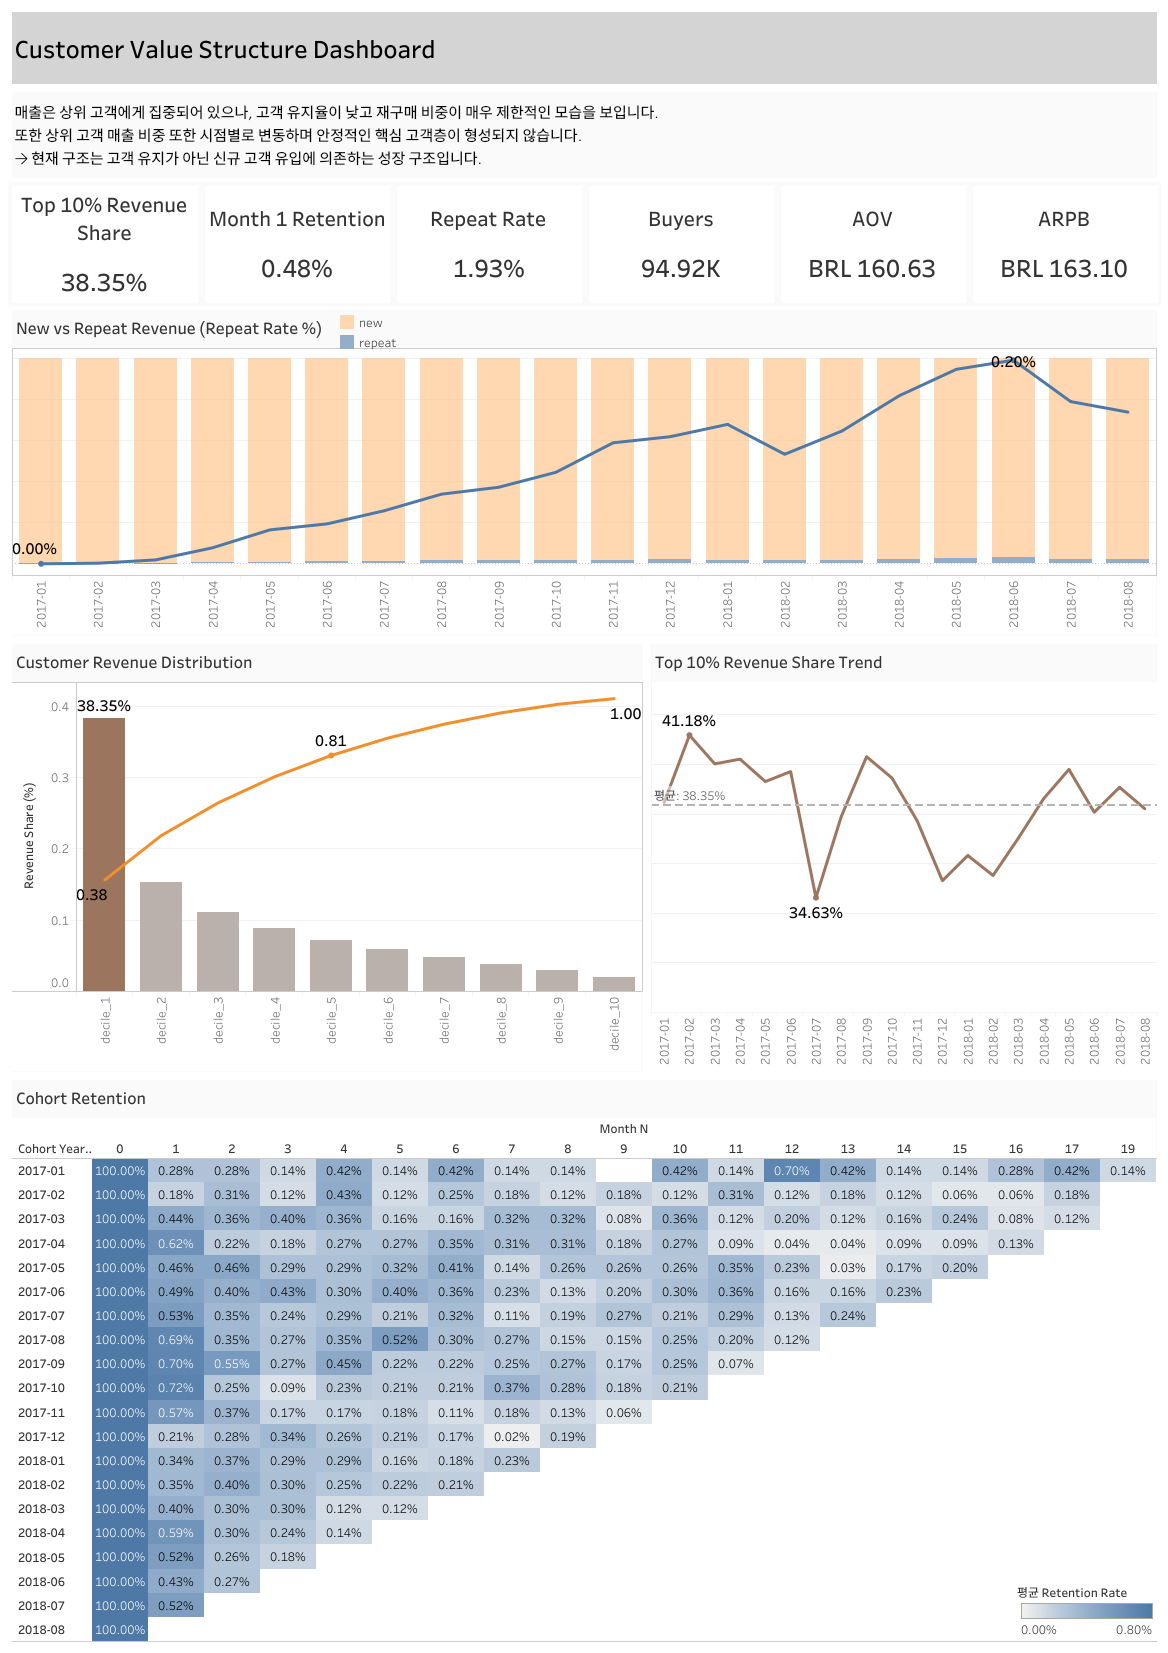

What the dashboard file says about the page in this screenshot:
{"tool":"tableau","page":{"name":"Customer Value Structure Dashboard","canvas":[1169,1654],"ordinal":0},"visuals":[{"type":"text","box":[8,8,1153,80]},{"type":"text","box":[8,88,1153,94]},{"type":"worksheet","title":"CV_KPI_Top 10% Revenue Share","mark":"Automatic","box":[8,182,193,112]},{"type":"worksheet","title":"CV_KPI_Month 1 Retention","mark":"Automatic","box":[201,182,192,112]},{"type":"worksheet","title":"CV_KPI_Repeat Rate","mark":"Automatic","box":[393,182,192,112]},{"type":"worksheet","title":"CV_KPI_Buyers","mark":"Automatic","box":[585,182,192,112]},{"type":"worksheet","title":"CV_KPI_AOV","mark":"Automatic","box":[777,182,192,112]},{"type":"worksheet","title":"CV_KPI_ARPB","mark":"Automatic","box":[969,182,192,112]},{"type":"worksheet","title":"CV_New vs Repeat Revenue","mark":"Automatic","cols":["year_month"],"box":[8,294,1153,346]},{"type":"legend","title":"CV_New vs Repeat Revenue","param":"[federated.15k9110030ab7d1emxqkk14pnrqd].[none:sub_type:nk]","box":[336,297,74,48]},{"type":"worksheet","title":"CV_Customer Revenue Distribution","mark":"Line","rows":["revenue_share"],"cols":["sub_type"],"box":[8,640,639,436]},{"type":"worksheet","title":"CV_Top 10% Revenue Share Trend","mark":"Line","rows":["revenue_share"],"cols":["year_month"],"box":[647,640,513.9,436]},{"type":"worksheet","title":"CV_Cohort Retention","mark":"Square","rows":["cohort_year_month"],"cols":["month_n"],"box":[8,1076,1153,570]},{"type":"legend","title":"CV_Cohort Retention","param":"[federated.15k9110030ab7d1emxqkk14pnrqd].[avg:retention_rate:qk]","box":[1017,1579,140,59]}]}

Visuals, with their boxes in screenshot pixels (x1, y1, x2, y2), scaled from the page's 1169x1654 canvas onto the 1168x1653 screenshot:
text: select_region(8, 8, 1160, 88)
text: select_region(8, 88, 1160, 182)
"CV_KPI_Top 10% Revenue Share" worksheet: select_region(8, 182, 201, 294)
"CV_KPI_Month 1 Retention" worksheet: select_region(201, 182, 393, 294)
"CV_KPI_Repeat Rate" worksheet: select_region(393, 182, 584, 294)
"CV_KPI_Buyers" worksheet: select_region(584, 182, 776, 294)
"CV_KPI_AOV" worksheet: select_region(776, 182, 968, 294)
"CV_KPI_ARPB" worksheet: select_region(968, 182, 1160, 294)
"CV_New vs Repeat Revenue" worksheet: select_region(8, 294, 1160, 640)
"CV_New vs Repeat Revenue" legend: select_region(336, 297, 410, 345)
"CV_Customer Revenue Distribution" worksheet (Line marks): select_region(8, 640, 646, 1075)
"CV_Top 10% Revenue Share Trend" worksheet (Line marks): select_region(646, 640, 1160, 1075)
"CV_Cohort Retention" worksheet (Square marks): select_region(8, 1075, 1160, 1645)
"CV_Cohort Retention" legend: select_region(1016, 1578, 1156, 1637)
